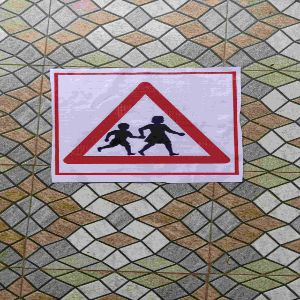schools: (57, 76, 238, 175)
